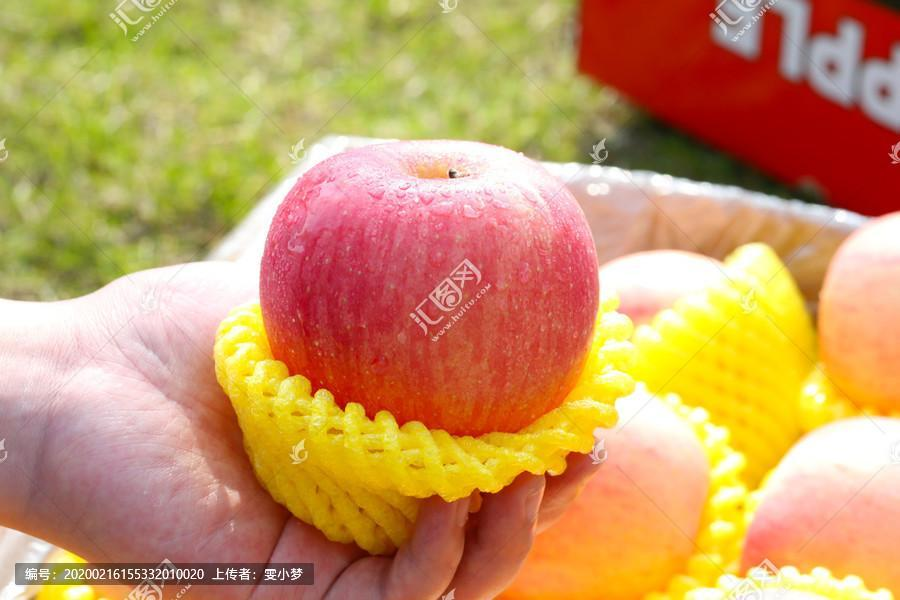apple: (245, 140, 605, 449), (734, 410, 897, 592), (814, 214, 898, 420)
